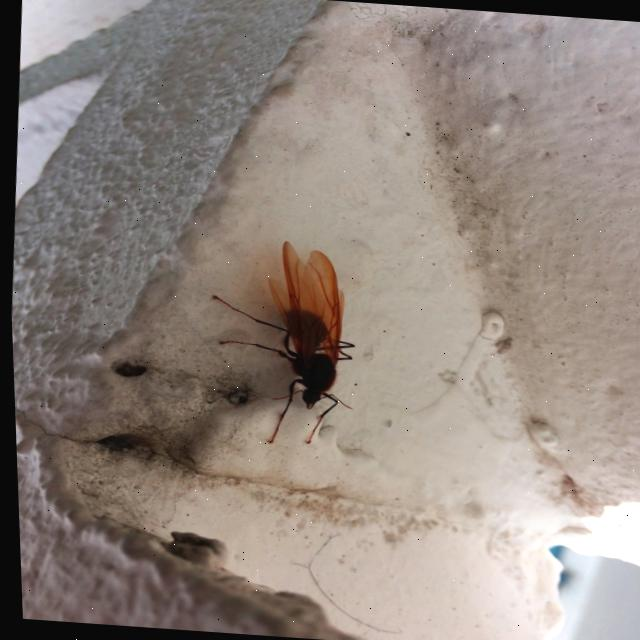Alive-Male-Alate: (197, 235, 362, 449)
